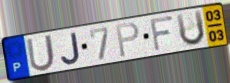7: (88, 25, 110, 62)
F: (149, 14, 176, 53)
J: (59, 31, 82, 67)
P: (114, 21, 141, 59)
U: (25, 33, 57, 73), (175, 8, 207, 48)
